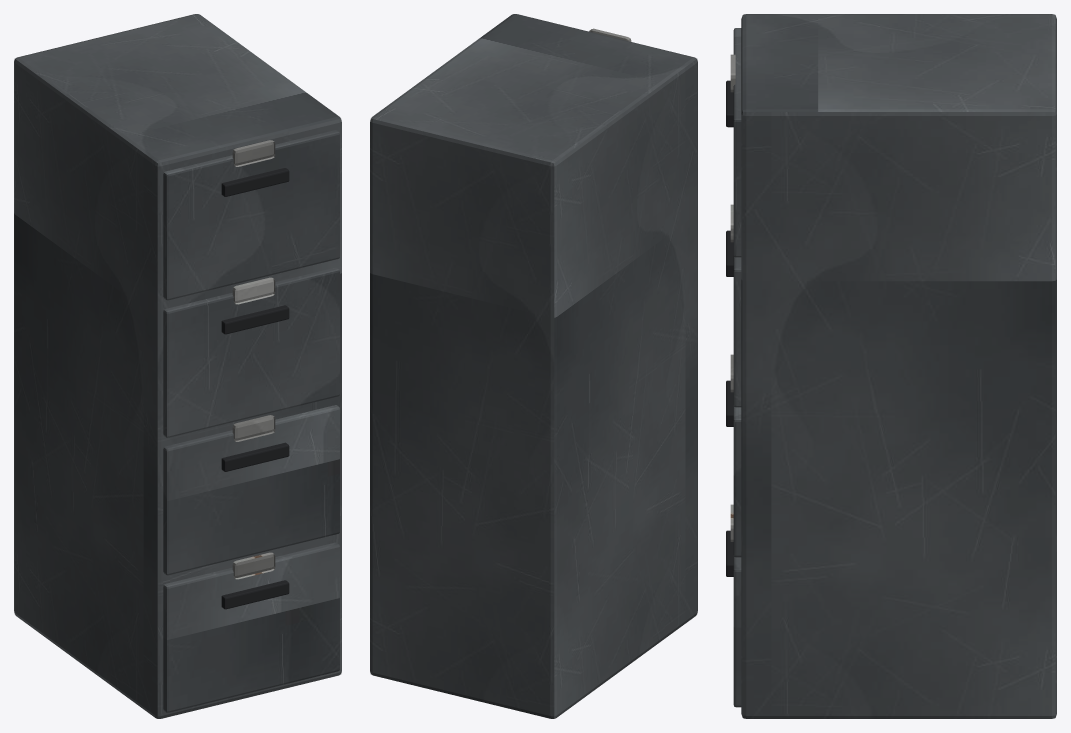
File: filing_cabinet.glb
The picture shows the model from 3 angles, left to right: view 1: azimuth 30°, elevation 25°; view 2: azimuth 150°, elevation 25°; view 3: azimuth 270°, elevation 25°; orthographic projection. The views are drawn at different scales.
Parts seen in each view (by area): view 1: body; view 2: body; view 3: body.
Part boxes in pixels (box(x1,y1,x2,y2)): body: box(14, 14, 341, 718); body: box(370, 14, 697, 718); body: box(726, 14, 1056, 718).
Bounding box in the file's own units: 0.46 × 1.32 × 0.65.
Materials: 3 (2 with a texture image).
